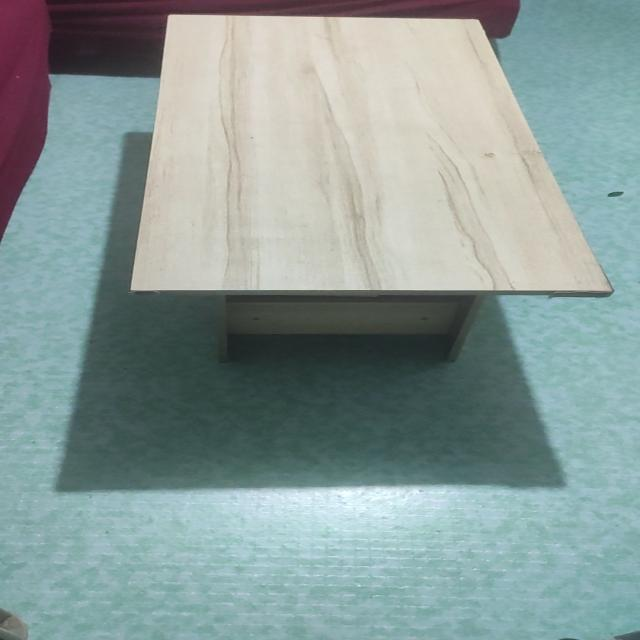table: (125, 10, 620, 377)
